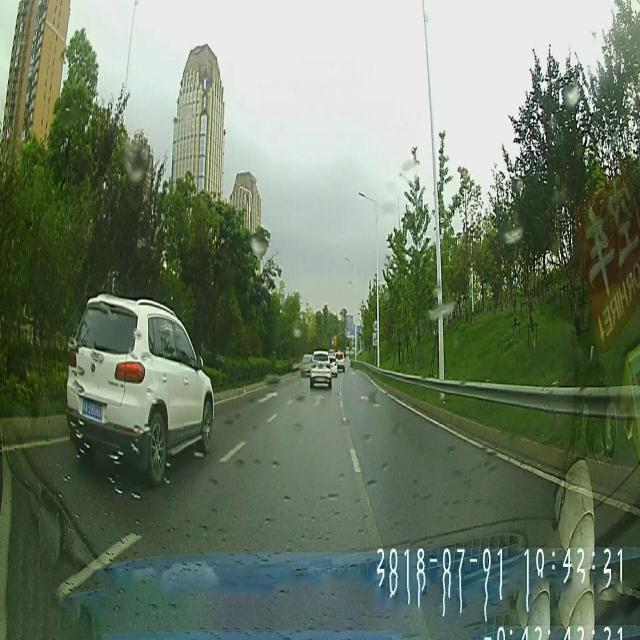car: (65, 294, 214, 476), (308, 352, 332, 394), (300, 356, 314, 376), (336, 352, 346, 370)
